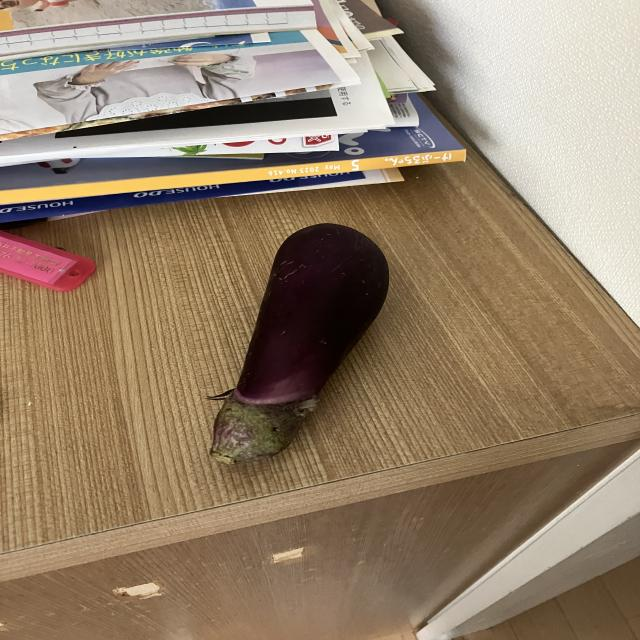eggplant: (202, 222, 396, 472)
